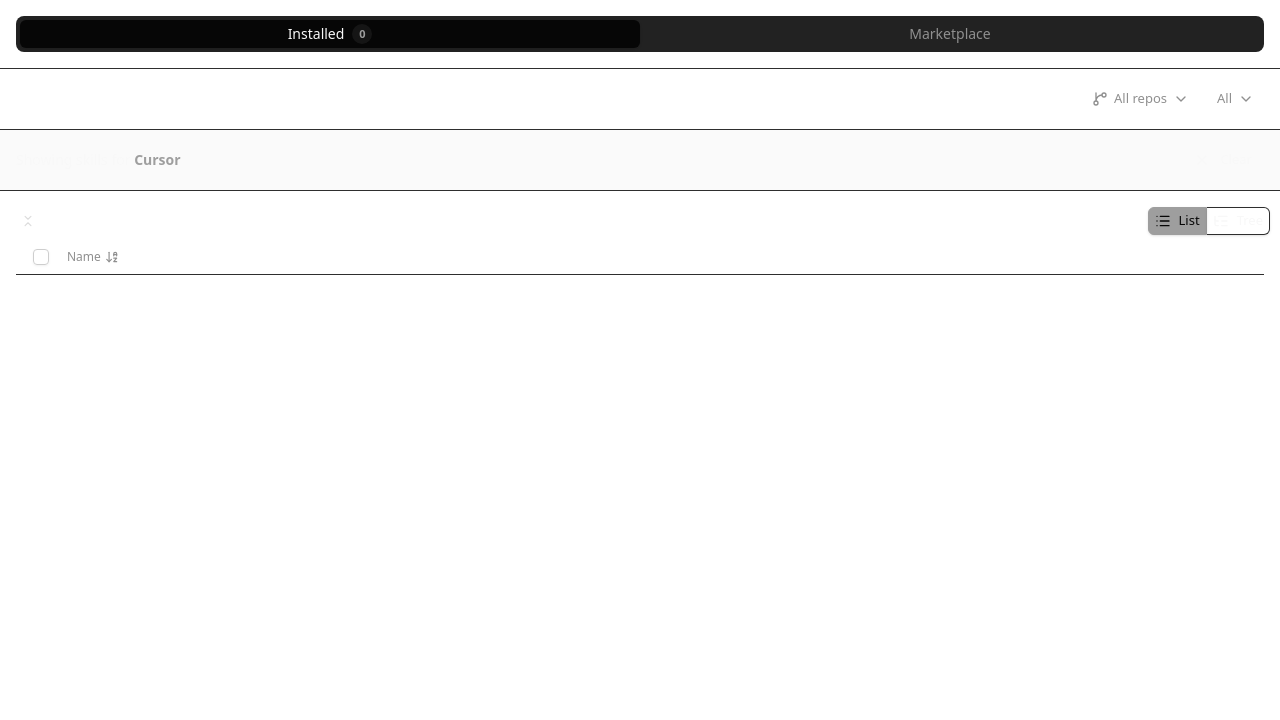
Test: MainContent SkillTypeFilter dropdown options › offers an Orphan filter marked with a destructive dot when an agent is selected
Click the button with aria-label "Skill type filter: All" at point(1236, 99), box [1207, 85, 1264, 113]
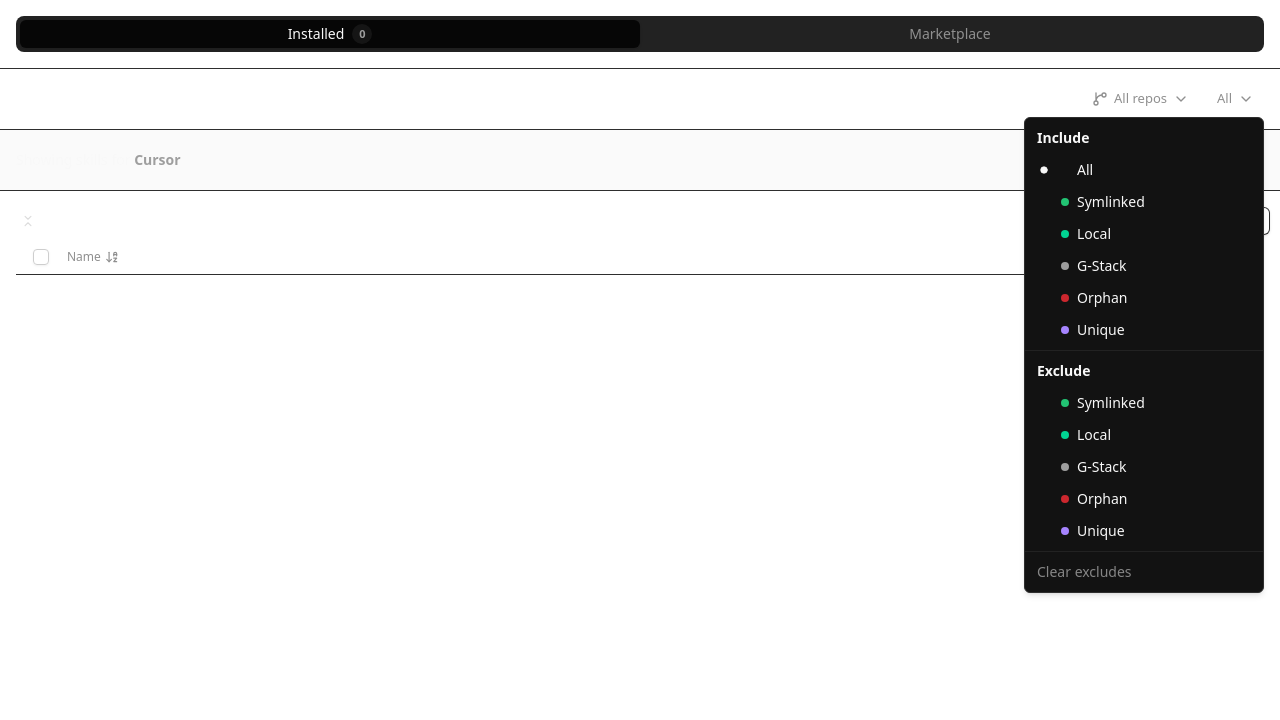
Expected: the 1st menu item "Orphan" is shown, [1061, 288, 1128, 307]
